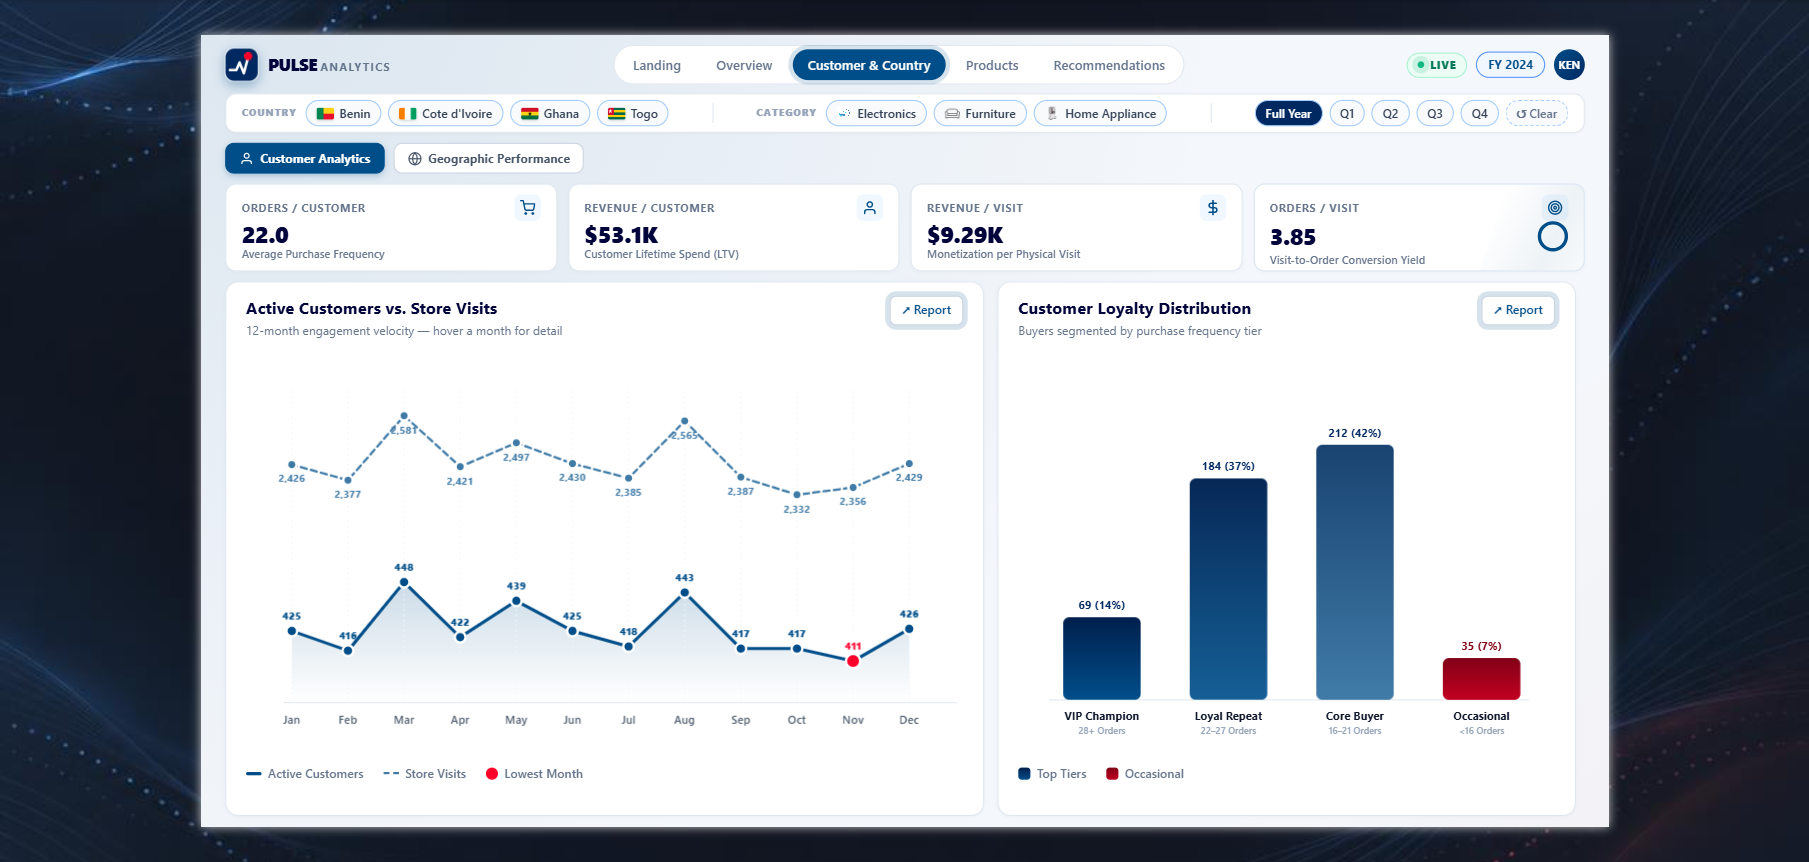

Layout of this report page (visuals, bound fields, positions):
{"tool":"powerbi","page":{"name":"Customer Page","canvas":[1280,720],"ordinal":2},"visuals":[{"type":"htmlContent443BE3AD55E043BF878BED274D3A6855","fields":{"content":["HTML_Visuals.Customer_Country_Page"]},"box":[0,0,1280,720],"z":0}]}

Visuals, with their boxes on the page's 1280x720 design canvas (x1, y1, x2, y2). These are canvas units, not pixel positions in the 1809x862 screenshot, which may show the page scaled, cropped or inside an application window:
htmlContent443BE3AD55E043BF878BED274D3A6855 - HTML_Visuals.Customer_Country_Page: Rect(0, 0, 1280, 720)
